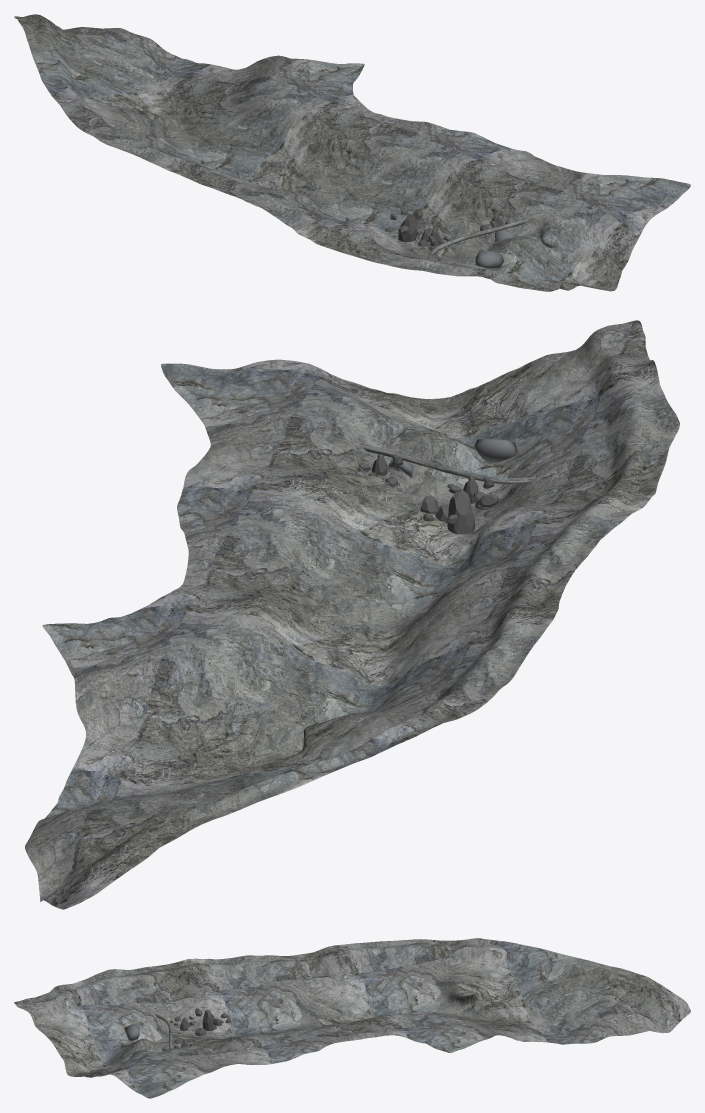
File: rocks.glb
3 renders of one model, top to bottom at view 1: azimuth 30°, elevation 25°; view 2: azimuth 150°, elevation 25°; view 3: azimuth 270°, elevation 25°, orthographic. The views are drawn at different scales.
Parts seen in each view (by area): view 1: Cube, Cube.002, GN Instance; view 2: Cube, Cube.002, GN Instance; view 3: Cube, Cube.002.
Part boxes in pixels (bbox=[...]): Cube: bbox=[14, 14, 690, 291]; Cube.002: bbox=[385, 208, 509, 246]; GN Instance: bbox=[428, 218, 528, 256]; Cube: bbox=[25, 320, 679, 909]; Cube.002: bbox=[358, 454, 499, 544]; GN Instance: bbox=[360, 443, 536, 484]; Cube: bbox=[14, 938, 690, 1098]; Cube.002: bbox=[170, 1008, 230, 1047].
Bounding box in the file's own units: 31.36 × 4.49 × 60.21.
3 materials, 2 textured.
